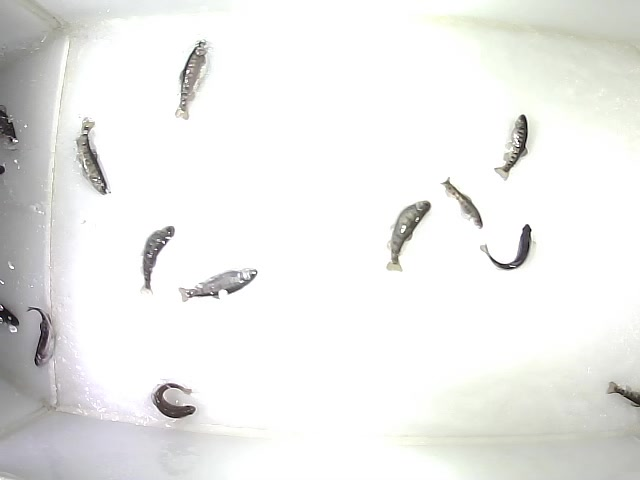fish: (386, 200, 433, 274), (73, 116, 112, 197), (174, 39, 211, 122), (178, 267, 259, 303), (479, 223, 538, 272), (137, 225, 177, 296), (493, 113, 531, 183), (438, 176, 484, 231), (25, 306, 56, 369), (150, 381, 197, 420)
